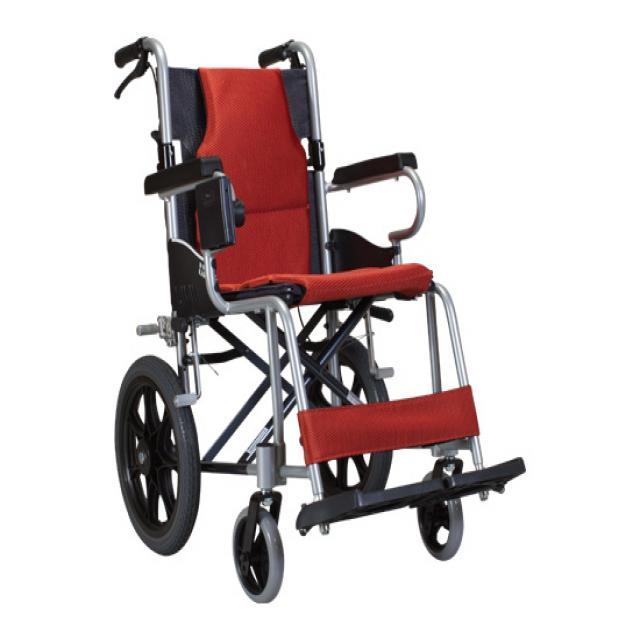wheelchair: (109, 21, 550, 609)
